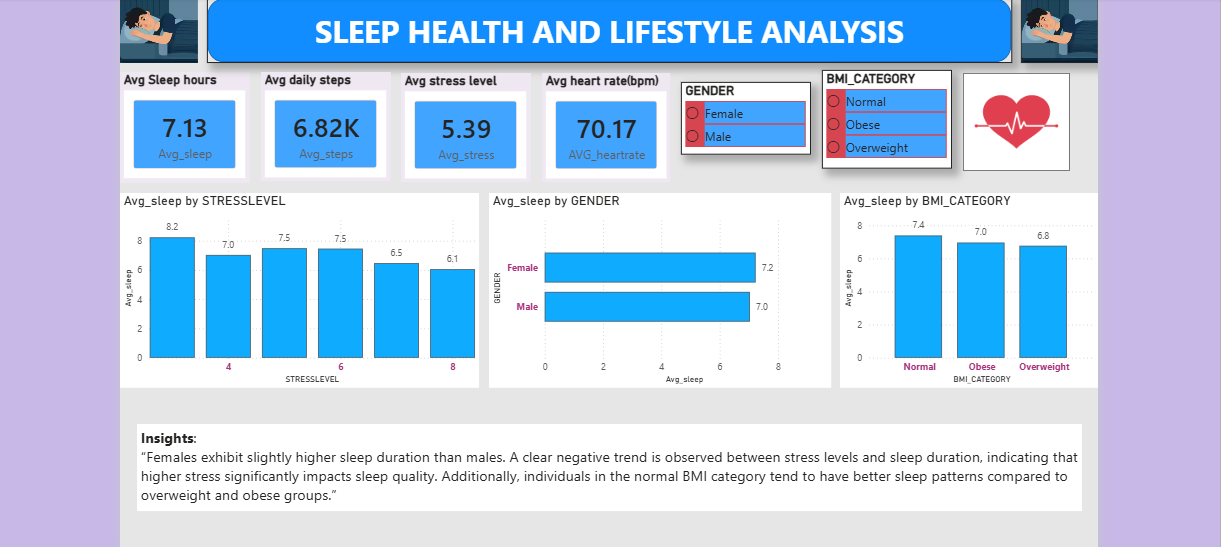

Layout of this report page (visuals, bound fields, positions):
{"tool":"powerbi","page":{"name":"Overview","canvas":[1280,720],"ordinal":0},"visuals":[{"type":"cardVisual","title":"Avg Sleep hours","fields":{"Data":["Sleep data.Avg_sleep"]},"box":[0,96.6,169.8,144.9],"z":0},{"type":"shape","box":[114,0,1053.7,84.9],"z":1000},{"type":"cardVisual","title":"Avg daily steps","fields":{"Data":["Sleep data.Avg_steps"]},"box":[184.1,96.6,169.8,143.4],"z":2000},{"type":"cardVisual","title":"Avg stress level","fields":{"Data":["Sleep data.Avg_stress"]},"box":[368.2,98,169.8,143.4],"z":3000},{"type":"cardVisual","title":"Avg heart rate(bpm)","fields":{"Data":["Sleep data.AVG_heartrate"]},"box":[552.3,98,168.3,143.4],"z":4000},{"type":"barChart","fields":{"Category":["Sleep data.GENDER"],"Y":["Sleep data.Avg_sleep"]},"box":[482.9,254.6,447.8,254.6],"z":5000},{"type":"listSlicer","fields":{"Values":["Sleep data.GENDER"]},"box":[734.9,109.8,169.8,95.1],"z":6000},{"type":"listSlicer","fields":{"Values":["Sleep data.BMI_CATEGORY"]},"box":[919,93.7,169.8,128.8],"z":7000},{"type":"columnChart","fields":{"Category":["Sleep data.STRESSLEVEL"],"Y":["Sleep data.Avg_sleep"]},"box":[0,254.6,469.8,254.6],"z":8000},{"type":"columnChart","fields":{"Category":["Sleep data.BMI_CATEGORY"],"Y":["Sleep data.Avg_sleep"]},"box":[942.4,254.6,338,254.6],"z":9000},{"type":"textbox","box":[21.7,557.6,1236.6,114.1],"z":10000},{"type":"image","box":[0,0,102.2,85],"z":11000},{"type":"image","box":[1179.2,0,100.8,85],"z":12000},{"type":"image","box":[1103,97.9,139.7,128.2],"z":13000}]}

Visuals, with their boxes on the page's 1280x720 design canvas (x1, y1, x2, y2). These are canvas units, not pixel positions in the 1222x547 screenshot, which may show the page scaled, cropped or inside an application window:
"Avg Sleep hours" cardVisual: <box>0,97,170,242</box>
shape: <box>114,0,1168,85</box>
"Avg daily steps" cardVisual: <box>184,97,354,240</box>
"Avg stress level" cardVisual: <box>368,98,538,241</box>
"Avg heart rate(bpm)" cardVisual: <box>552,98,721,241</box>
barChart - Sleep data.GENDER x Sleep data.Avg_sleep: <box>483,255,931,509</box>
listSlicer - Sleep data.GENDER: <box>735,110,905,205</box>
listSlicer - Sleep data.BMI_CATEGORY: <box>919,94,1089,222</box>
columnChart - Sleep data.STRESSLEVEL x Sleep data.Avg_sleep: <box>0,255,470,509</box>
columnChart - Sleep data.BMI_CATEGORY x Sleep data.Avg_sleep: <box>942,255,1280,509</box>
textbox: <box>22,558,1258,672</box>
image: <box>0,0,102,85</box>
image: <box>1179,0,1280,85</box>
image: <box>1103,98,1243,226</box>
